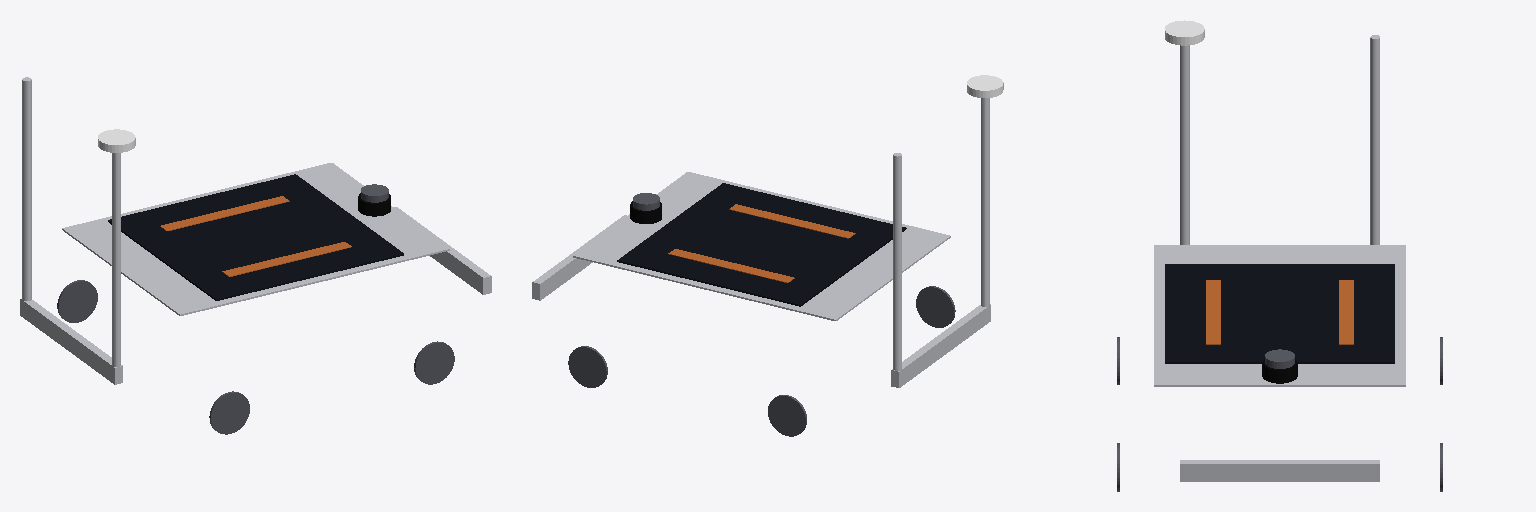
URDF robot description (r2d_rover):
<?xml version="1.0"?>
<!-- Generated by tools/gen_rover.py for RViz. Do not edit. -->
<robot name="r2d_rover">
  <link name="base_link">
    <visual><origin xyz="0.0000 0.0000 0.0000" rpy="0.0000 0.0000 0.0000"/><geometry><mesh filename="file:///home/shyam/Rover2Drone/models/r2d_rover/meshes/body.obj"/></geometry><material name="gunmetal"><color rgba="0.20 0.21 0.24 1"/></material></visual>
    <visual><origin xyz="0.0000 0.0000 0.0920" rpy="0.0000 0.0000 0.0000"/><geometry><box size="0.6600 0.5000 0.0040"/></geometry><material name="alu"><color rgba="0.80 0.81 0.83 1"/></material></visual>
    <visual><origin xyz="0.0000 0.0000 0.0960" rpy="0.0000 0.0000 0.0000"/><geometry><box size="0.4600 0.4600 0.0040"/></geometry><material name="pad"><color rgba="0.10 0.11 0.14 1"/></material></visual>
    <visual><origin xyz="0.2900 0.0000 0.1090" rpy="0.0000 0.0000 0.0000"/><geometry><cylinder radius="0.0350" length="0.0300"/></geometry><material name="black"><color rgba="0.07 0.07 0.07 1"/></material></visual>
    <visual><origin xyz="0.2900 0.0000 0.1290" rpy="0.0000 0.0000 0.0000"/><geometry><cylinder radius="0.0300" length="0.0200"/></geometry><material name="hub"><color rgba="0.38 0.39 0.42 1"/></material></visual>
    <visual><origin xyz="-0.4500 -0.1900 0.2270" rpy="0.0000 0.0000 0.0000"/><geometry><cylinder radius="0.0100" length="0.5340"/></geometry><material name="alu"><color rgba="0.80 0.81 0.83 1"/></material></visual>
    <visual><origin xyz="-0.4500 0.1900 0.2270" rpy="0.0000 0.0000 0.0000"/><geometry><cylinder radius="0.0100" length="0.5340"/></geometry><material name="alu"><color rgba="0.80 0.81 0.83 1"/></material></visual>
    <visual><origin xyz="-0.4500 -0.1900 0.5030" rpy="0.0000 0.0000 0.0000"/><geometry><cylinder radius="0.0400" length="0.0180"/></geometry><material name="white"><color rgba="0.95 0.95 0.95 1"/></material></visual>
    <visual><origin xyz="0.4500 0.0000 -0.0400" rpy="0.0000 0.0000 0.0000"/><geometry><box size="0.0200 0.4000 0.0400"/></geometry><material name="alu"><color rgba="0.80 0.81 0.83 1"/></material></visual>
    <visual><origin xyz="-0.4500 0.0000 -0.0400" rpy="0.0000 0.0000 0.0000"/><geometry><box size="0.0200 0.4000 0.0400"/></geometry><material name="alu"><color rgba="0.80 0.81 0.83 1"/></material></visual>
    <visual><origin xyz="0.0000 0.1320 0.0985" rpy="0.0000 0.0000 0.0000"/><geometry><box size="0.3000 0.0300 0.0020"/></geometry><material name="copper"><color rgba="0.78 0.45 0.22 1"/></material></visual>
    <visual><origin xyz="0.0000 -0.1320 0.0985" rpy="0.0000 0.0000 0.0000"/><geometry><box size="0.3000 0.0300 0.0020"/></geometry><material name="copper"><color rgba="0.78 0.45 0.22 1"/></material></visual>
  </link>
  <link name="wheel_fl">
    <visual><origin xyz="0.0000 0.0000 0.0000" rpy="-1.5708 0.0000 0.0000"/><geometry><mesh filename="file:///home/shyam/Rover2Drone/models/r2d_rover/meshes/tyre.obj"/></geometry><material name="rubber"><color rgba="0.05 0.05 0.05 1"/></material></visual>
    <visual><origin xyz="0.0000 0.0220 0.0000" rpy="-1.5708 0.0000 0.0000"/><geometry><cylinder radius="0.0480" length="0.0060"/></geometry><material name="hub"><color rgba="0.38 0.39 0.42 1"/></material></visual>
  </link>
  <joint name="wheel_fl_joint" type="continuous">
    <parent link="base_link"/><child link="wheel_fl"/>
    <origin xyz="0.2500 0.3000 -0.1250"/><axis xyz="0 1 0"/>
  </joint>
  <link name="wheel_fr">
    <visual><origin xyz="0.0000 0.0000 0.0000" rpy="-1.5708 0.0000 0.0000"/><geometry><mesh filename="file:///home/shyam/Rover2Drone/models/r2d_rover/meshes/tyre.obj"/></geometry><material name="rubber"><color rgba="0.05 0.05 0.05 1"/></material></visual>
    <visual><origin xyz="0.0000 -0.0220 0.0000" rpy="-1.5708 0.0000 0.0000"/><geometry><cylinder radius="0.0480" length="0.0060"/></geometry><material name="hub"><color rgba="0.38 0.39 0.42 1"/></material></visual>
  </link>
  <joint name="wheel_fr_joint" type="continuous">
    <parent link="base_link"/><child link="wheel_fr"/>
    <origin xyz="0.2500 -0.3000 -0.1250"/><axis xyz="0 1 0"/>
  </joint>
  <link name="wheel_rl">
    <visual><origin xyz="0.0000 0.0000 0.0000" rpy="-1.5708 0.0000 0.0000"/><geometry><mesh filename="file:///home/shyam/Rover2Drone/models/r2d_rover/meshes/tyre.obj"/></geometry><material name="rubber"><color rgba="0.05 0.05 0.05 1"/></material></visual>
    <visual><origin xyz="0.0000 0.0220 0.0000" rpy="-1.5708 0.0000 0.0000"/><geometry><cylinder radius="0.0480" length="0.0060"/></geometry><material name="hub"><color rgba="0.38 0.39 0.42 1"/></material></visual>
  </link>
  <joint name="wheel_rl_joint" type="continuous">
    <parent link="base_link"/><child link="wheel_rl"/>
    <origin xyz="-0.2500 0.3000 -0.1250"/><axis xyz="0 1 0"/>
  </joint>
  <link name="wheel_rr">
    <visual><origin xyz="0.0000 0.0000 0.0000" rpy="-1.5708 0.0000 0.0000"/><geometry><mesh filename="file:///home/shyam/Rover2Drone/models/r2d_rover/meshes/tyre.obj"/></geometry><material name="rubber"><color rgba="0.05 0.05 0.05 1"/></material></visual>
    <visual><origin xyz="0.0000 -0.0220 0.0000" rpy="-1.5708 0.0000 0.0000"/><geometry><cylinder radius="0.0480" length="0.0060"/></geometry><material name="hub"><color rgba="0.38 0.39 0.42 1"/></material></visual>
  </link>
  <joint name="wheel_rr_joint" type="continuous">
    <parent link="base_link"/><child link="wheel_rr"/>
    <origin xyz="-0.2500 -0.3000 -0.1250"/><axis xyz="0 1 0"/>
  </joint>
  <link name="lidar_link"/>
  <joint name="lidar_link_joint" type="fixed"><parent link="base_link"/><child link="lidar_link"/><origin xyz="0.2900 0.0000 0.1290"/></joint>
  <link name="imu_link"/>
  <joint name="imu_link_joint" type="fixed"><parent link="base_link"/><child link="imu_link"/><origin xyz="0.0000 0.0000 0.0000"/></joint>
  <link name="gnss_link"/>
  <joint name="gnss_link_joint" type="fixed"><parent link="base_link"/><child link="gnss_link"/><origin xyz="-0.4500 -0.1900 0.5040"/></joint>
</robot>

--- Facts derived from the render (not from the file) ---
3 views of the same robot in one strip: view 1: azimuth 30°, elevation 25°; view 2: azimuth 150°, elevation 25°; view 3: azimuth 270°, elevation 25° (orthographic).
Robot: r2d_rover — 8 links, 7 joints (4 continuous, 3 fixed); root link base_link; default pose: all joints at 0.
Visible links, largest first — view 1: base_link, wheel_rl, wheel_fr, wheel_rr; view 2: base_link, wheel_fl, wheel_rr, wheel_rl; view 3: base_link.
Boxes of the visible links, x1,y1,x2,y2 form: base_link: (20,77,491,384); wheel_rl: (57,280,97,322); wheel_fr: (414,341,454,384); wheel_rr: (209,391,249,434); base_link: (532,75,1003,387); wheel_fl: (568,346,607,387); wheel_rr: (916,286,955,327); wheel_rl: (768,395,806,436); base_link: (1154,20,1405,481).
Size in the robot's own frame: 0.95 by 0.65 by 0.685 metres.
Geometry: only primitive shapes (box / cylinder / sphere) drawn; not drawn: 5 mesh visuals (reference in a form the renderer does not follow).
